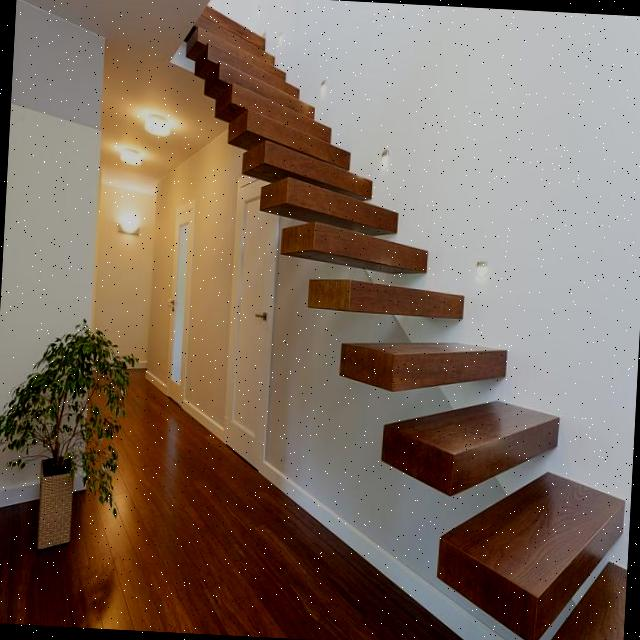stairs: (142, 0, 640, 640)
